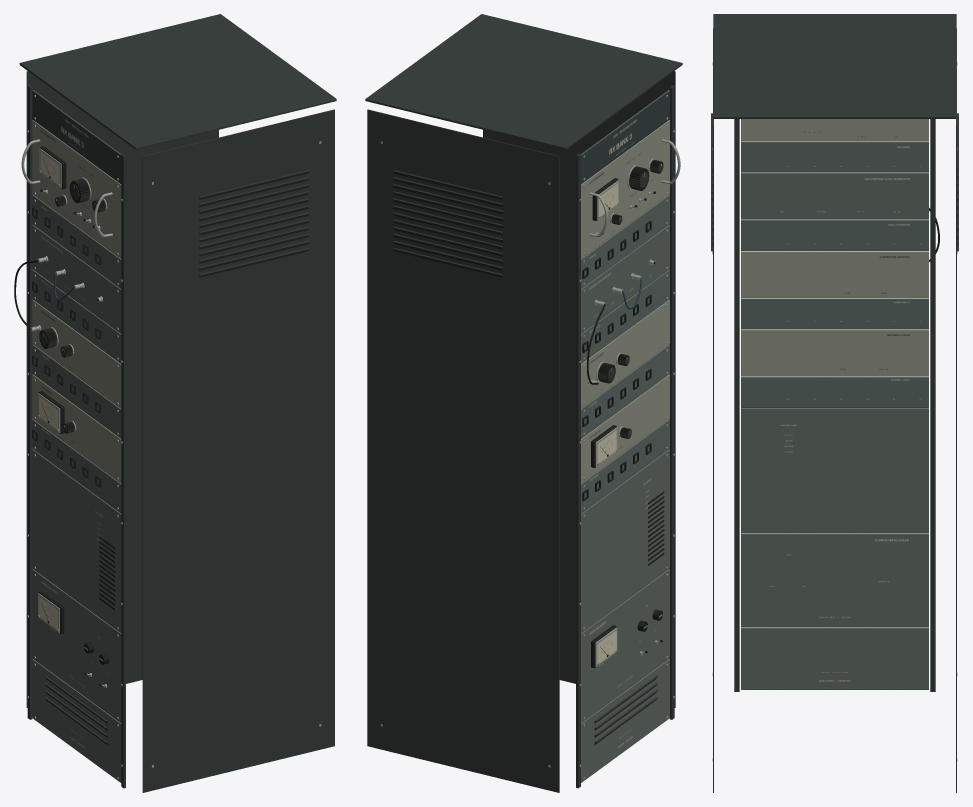
The model's file is SM_Saro1986_RX3Detail.fbx.
3 views of the same model, side by side, from view 1: azimuth 30°, elevation 25°; view 2: azimuth 150°, elevation 25°; view 3: azimuth 270°, elevation 25° (orthographic). The views are drawn at different scales.
Parts seen in each view (by area): view 1: SM_Saro1986_RX3Detail; view 2: SM_Saro1986_RX3Detail; view 3: SM_Saro1986_RX3Detail.
Part boxes in pixels (x1,y1,x2,y2): SM_Saro1986_RX3Detail: (14, 14, 336, 792); SM_Saro1986_RX3Detail: (365, 14, 682, 792); SM_Saro1986_RX3Detail: (711, 14, 958, 792).
Bounding box in the file's own units: 0.6863 × 0.637 × 1.92.
